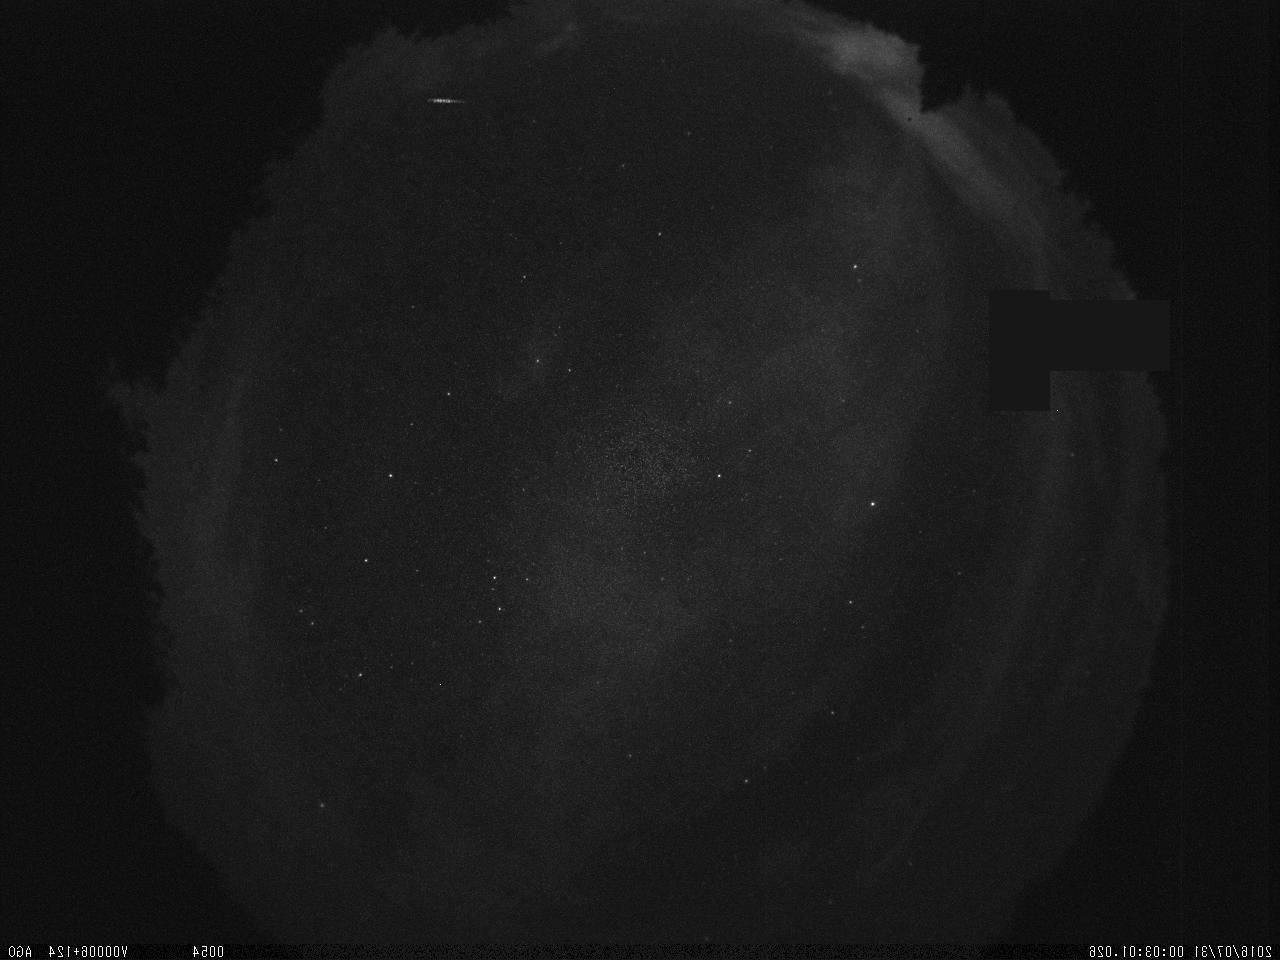meteor: (412, 84, 473, 120)
